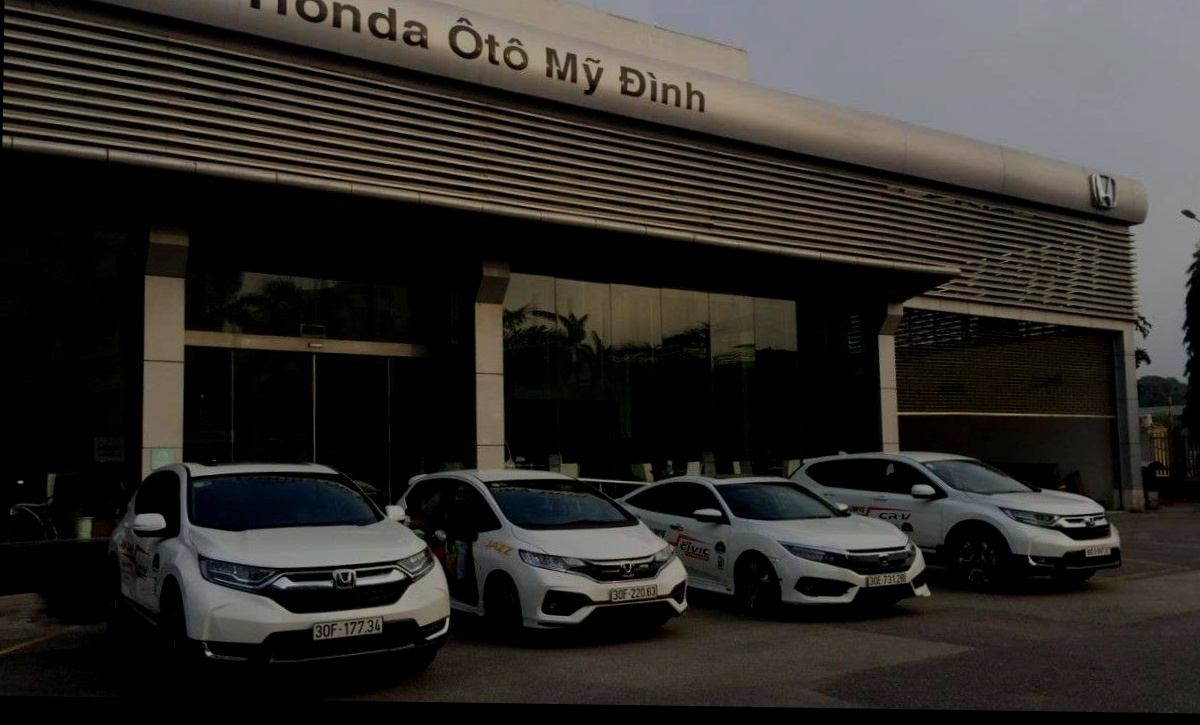Bien-so: (308, 643, 385, 677), (601, 608, 658, 636), (851, 591, 893, 609), (1062, 552, 1093, 573)
